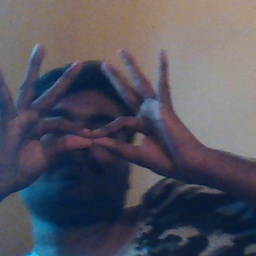B: (24, 75, 154, 174)
